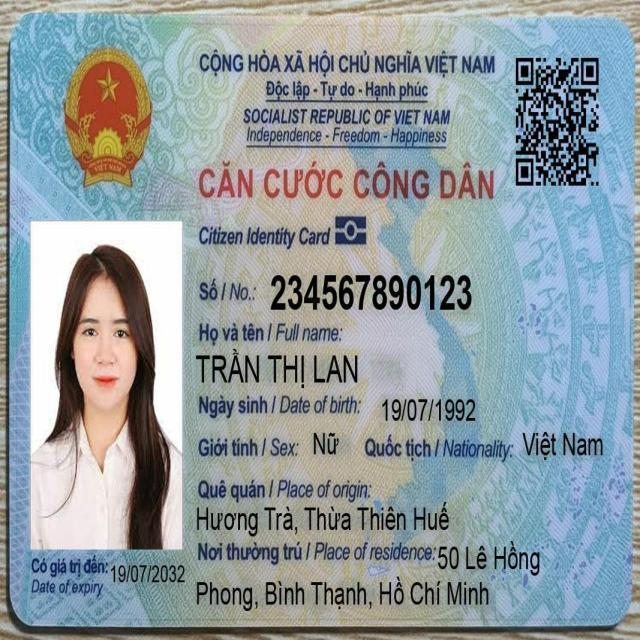current_place: (193, 572, 492, 618), (434, 537, 543, 579)
dob: (379, 391, 479, 429)
expire_date: (108, 557, 189, 590)
gender: (310, 426, 343, 461)
id: (266, 269, 474, 317)
name: (194, 343, 363, 391)
nationality: (520, 427, 608, 465)
origin_place: (192, 500, 454, 538)
